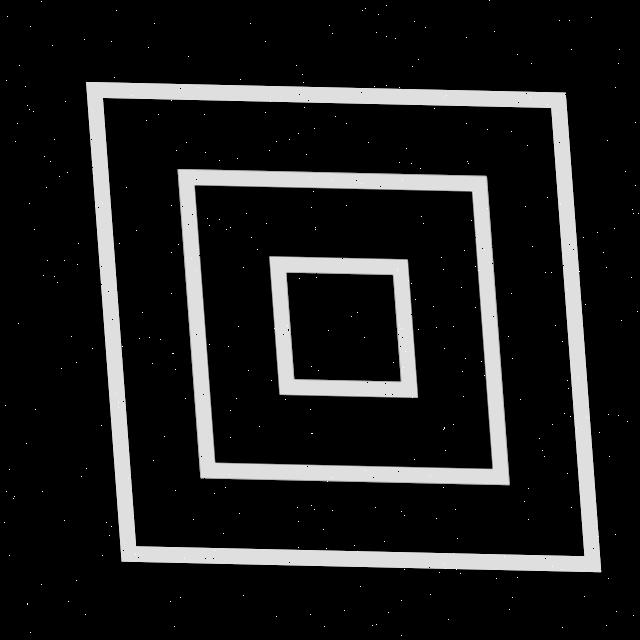BULLSEYE: (0, 1, 640, 640)
